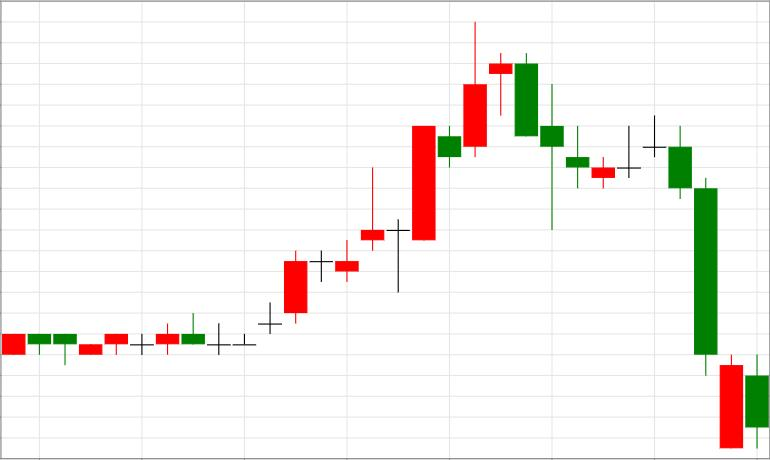morning_star_rise: (361, 21, 538, 293)
